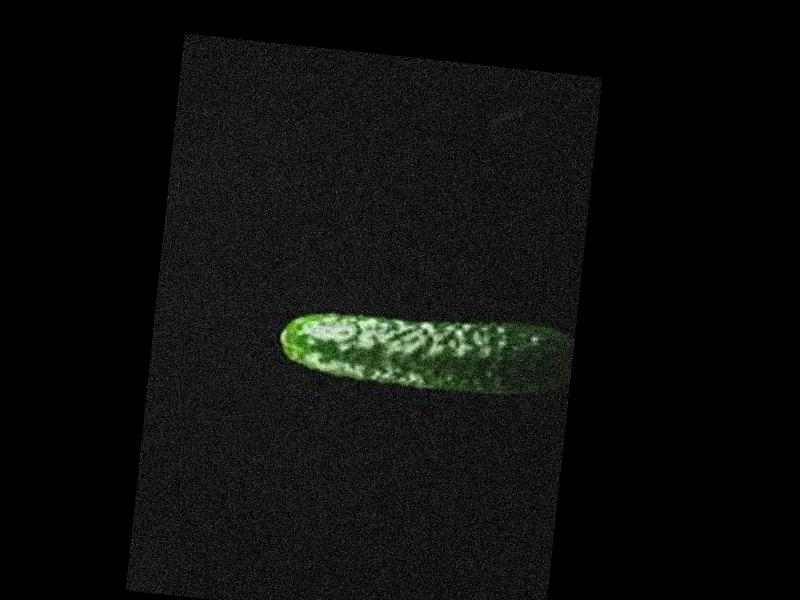Cucumber: (274, 296, 576, 404)
